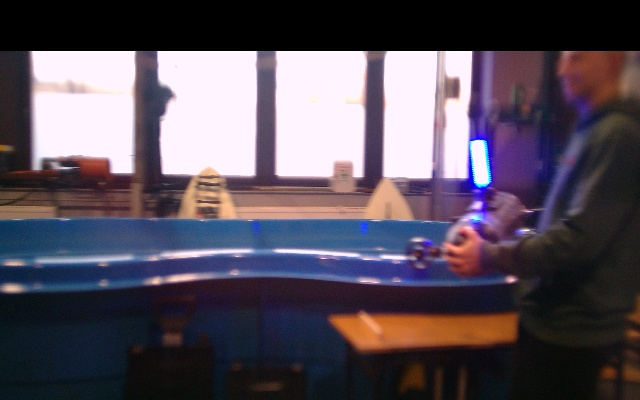blue: (469, 138, 491, 191)
